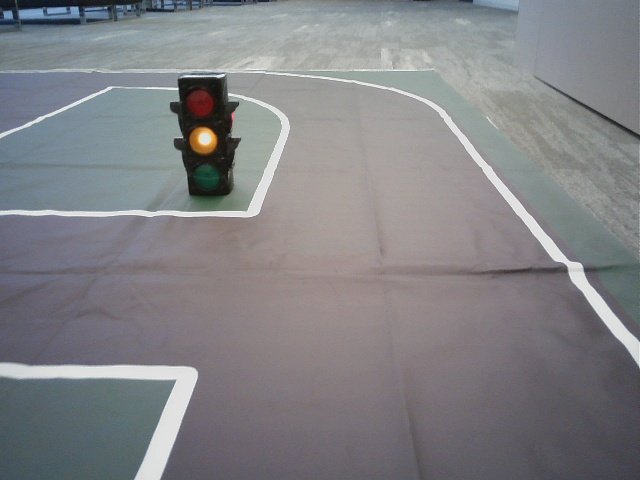yellow: (181, 80, 224, 190)
